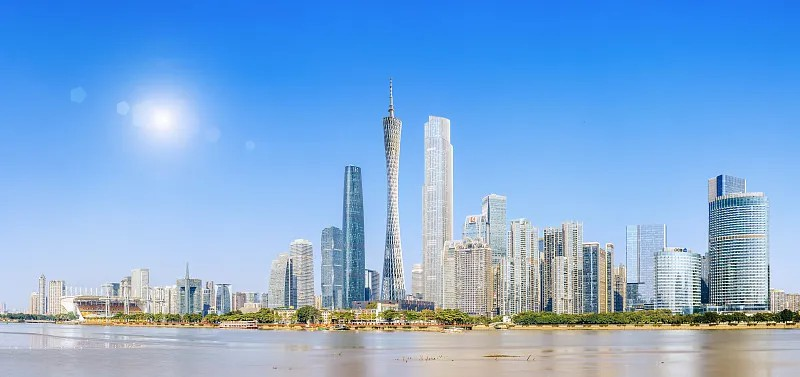Canton: (381, 76, 407, 299)
